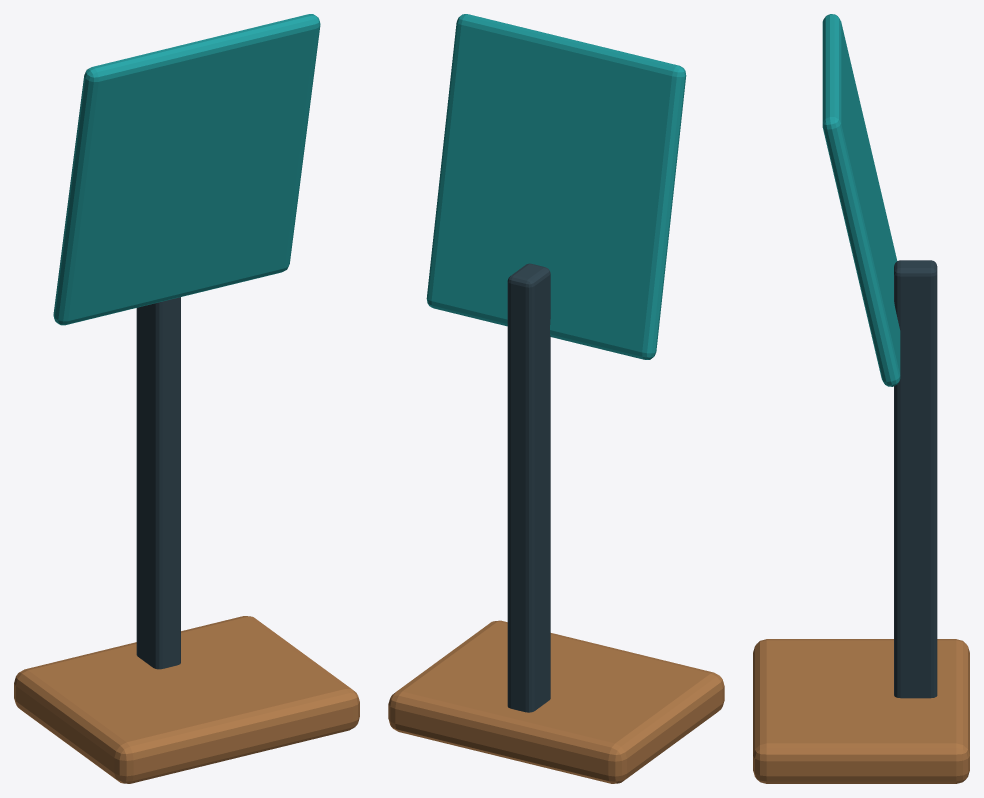
Rendered from SourceStand.fbx.
3 renders of one model, left to right at view 1: azimuth 30°, elevation 25°; view 2: azimuth 150°, elevation 25°; view 3: azimuth 270°, elevation 25°, orthographic. The views are drawn at different scales.
Visible parts, largest first — view 1: Paper backplate, Foot, Support.003; view 2: Paper backplate, Foot, Support.003; view 3: Foot, Support.003, Paper backplate.
Boxes of the visible parts, left/top/right/bottom form: Paper backplate: left=53, top=14, right=320, bottom=325; Foot: left=14, top=616, right=359, bottom=783; Support.003: left=136, top=297, right=180, bottom=669; Paper backplate: left=426, top=14, right=686, bottom=359; Foot: left=388, top=620, right=724, bottom=783; Support.003: left=507, top=263, right=550, bottom=712; Foot: left=753, top=639, right=969, bottom=783; Support.003: left=894, top=260, right=937, bottom=698; Paper backplate: left=822, top=14, right=900, bottom=386.
Size of the model in its own units: 0.5 by 1.35 by 0.4.
